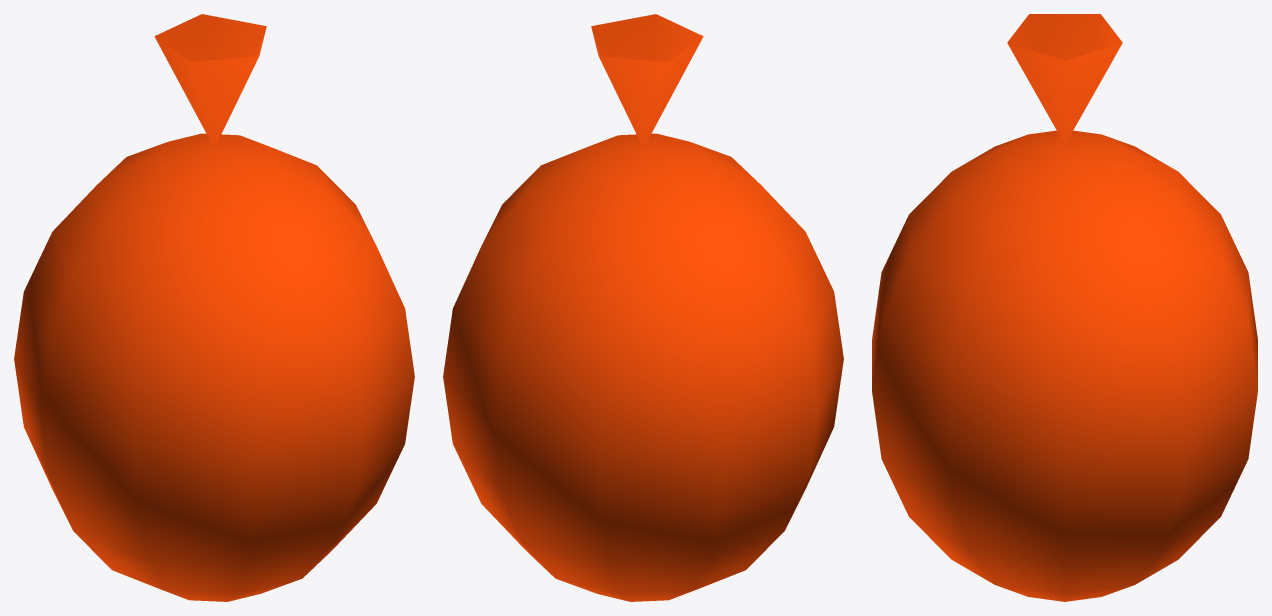
The model's file is Magmarau_stage1.obj.
3 views of the same model, side by side, from view 1: azimuth 30°, elevation 25°; view 2: azimuth 150°, elevation 25°; view 3: azimuth 270°, elevation 25° (orthographic).
Bounding box in the file's own units: 1.6 × 2.4 × 1.52.
